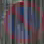No waiting: (3, 4, 43, 42)
